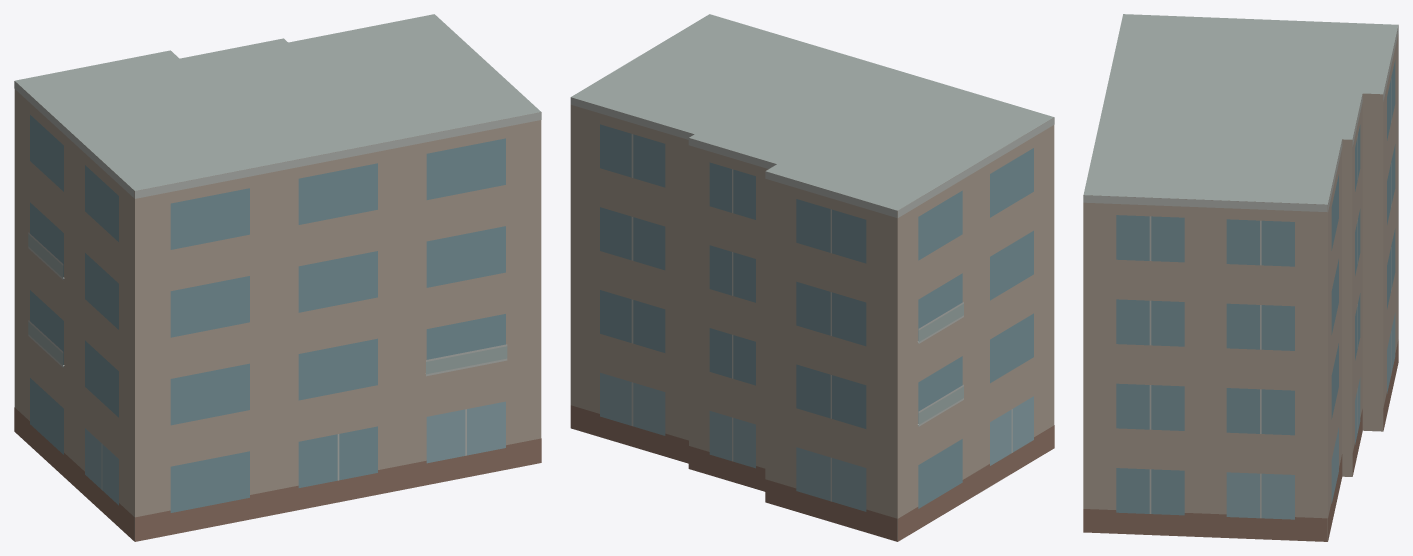
The model's file is survey-upis-32542840.glb.
The picture shows the model from 3 angles, left to right: view 1: azimuth 30°, elevation 25°; view 2: azimuth 150°, elevation 25°; view 3: azimuth 270°, elevation 25°; orthographic projection. The views are drawn at different scales.
Parts seen in each view (by area): view 1: survey-upis-32542840.tmp; view 2: survey-upis-32542840.tmp; view 3: survey-upis-32542840.tmp.
Part boxes in pixels (bbox=[...]): survey-upis-32542840.tmp: bbox=[14, 14, 541, 541]; survey-upis-32542840.tmp: bbox=[570, 14, 1054, 541]; survey-upis-32542840.tmp: bbox=[1083, 14, 1398, 541].
Size of the model in its own units: 13.1 by 10.8 by 9.15.
